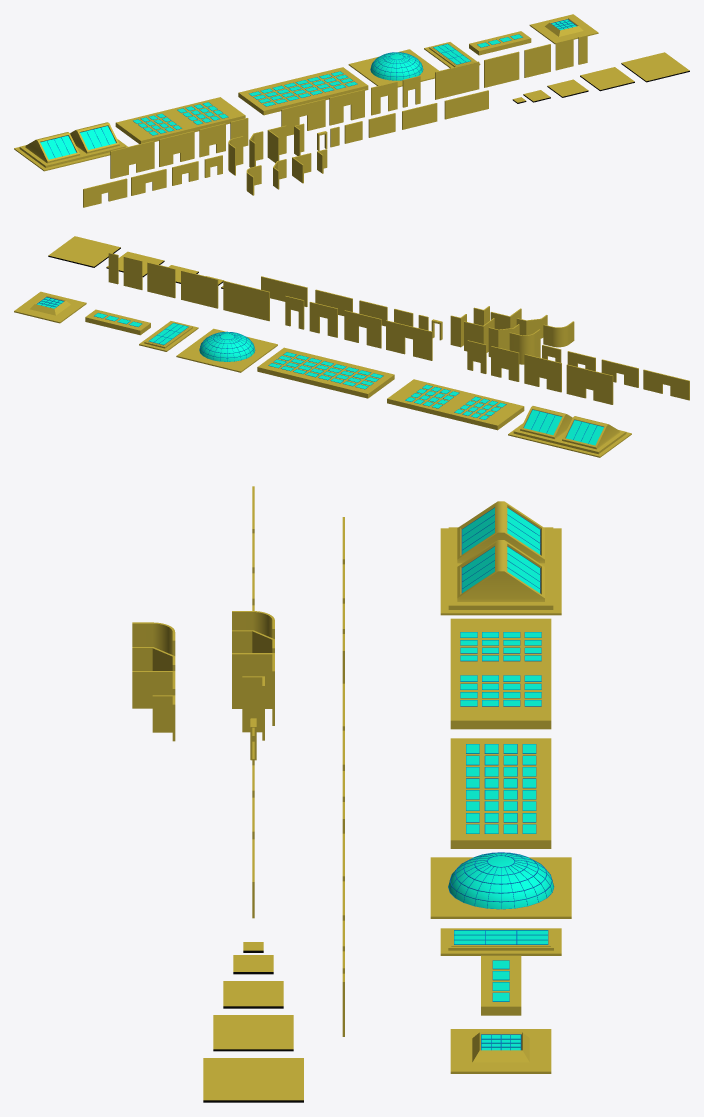
Rendered from Modular Assets.fbx.
3 views of the same model, one above another, from view 1: azimuth 30°, elevation 25°; view 2: azimuth 150°, elevation 25°; view 3: azimuth 270°, elevation 25° (orthographic). The views are drawn at different scales.
Visible parts, largest first — view 1: Ceiling_24x10_B, Ceiling_24x10_A, Ceiling_20x12, Ceiling_14x14, Wall_10x6, Wall_With_Door_10x6, Floor_10x10, Ceiling_10x10, Wall_With_Door_10x6_1, Wall_8x6, Wall_With_Door_8x6, Wall_With_Door_8x6_1 (+25 smaller); view 2: Ceiling_24x10_B, Ceiling_24x10_A, Ceiling_20x12, Ceiling_14x14, Wall_10x6, Wall_With_Door_10x6, Ceiling_10x10, Floor_10x10, Wall_With_Door_10x6_1, Wall_8x6, Wall_With_Door_8x6, Wall_With_Door_8x6_1 (+22 smaller); view 3: Ceiling_20x12, Ceiling_24x10_A, Ceiling_24x10_B, Ceiling_14x14, Ceiling_10x10, Floor_10x10, Ceiling_6x12, Floor_8x8, Ceiling_12x4, Wall_6_2, Floor_6x6, Wall_4_2 (+5 smaller).
Part boxes in pixels (left/top/right/bottom): Ceiling_24x10_B: left=238, top=67, right=368, bottom=115; Ceiling_24x10_A: left=115, top=97, right=245, bottom=143; Ceiling_20x12: left=14, top=122, right=127, bottom=171; Ceiling_14x14: left=348, top=49, right=438, bottom=87; Wall_10x6: left=435, top=61, right=479, bottom=99; Wall_With_Door_10x6: left=110, top=140, right=154, bottom=178; Floor_10x10: left=621, top=52, right=689, bottom=82; Ceiling_10x10: left=529, top=14, right=598, bottom=44; Wall_With_Door_10x6_1: left=281, top=99, right=325, bottom=135; Wall_8x6: left=484, top=51, right=519, bottom=87; Wall_With_Door_8x6: left=159, top=131, right=194, bottom=166; Wall_With_Door_8x6_1: left=329, top=89, right=364, bottom=125; Ceiling_24x10_B: left=257, top=347, right=394, bottom=398; Ceiling_24x10_A: left=387, top=379, right=524, bottom=430; Ceiling_20x12: left=508, top=406, right=631, bottom=457; Ceiling_14x14: left=176, top=328, right=277, bottom=372; Wall_10x6: left=223, top=280, right=269, bottom=321; Wall_With_Door_10x6: left=566, top=364, right=613, bottom=404; Ceiling_10x10: left=14, top=291, right=86, bottom=323; Floor_10x10: left=48, top=236, right=120, bottom=267; Wall_With_Door_10x6_1: left=386, top=320, right=432, bottom=360; Wall_8x6: left=181, top=270, right=218, bottom=308; Wall_With_Door_8x6: left=524, top=354, right=561, bottom=392; Wall_With_Door_8x6_1: left=344, top=310, right=381, bottom=348; Ceiling_20x12: left=440, top=501, right=561, bottom=615; Ceiling_24x10_A: left=450, top=618, right=551, bottom=729; Ceiling_24x10_B: left=450, top=738, right=551, bottom=848; Ceiling_14x14: left=430, top=852, right=571, bottom=918; Ceiling_10x10: left=450, top=1029, right=551, bottom=1073; Floor_10x10: left=203, top=1058, right=303, bottom=1102; Ceiling_6x12: left=440, top=928, right=561, bottom=955; Floor_8x8: left=213, top=1015, right=293, bottom=1051; Ceiling_12x4: left=481, top=955, right=521, bottom=1015; Wall_6_2: left=232, top=653, right=274, bottom=725; Floor_6x6: left=223, top=981, right=283, bottom=1008; Wall_4_2: left=132, top=671, right=175, bottom=708.
Size of the model in its own units: 13629 by 600 by 4363.
